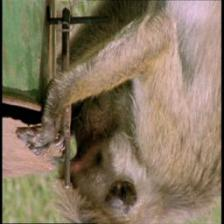monkey: (49, 96, 156, 222)
